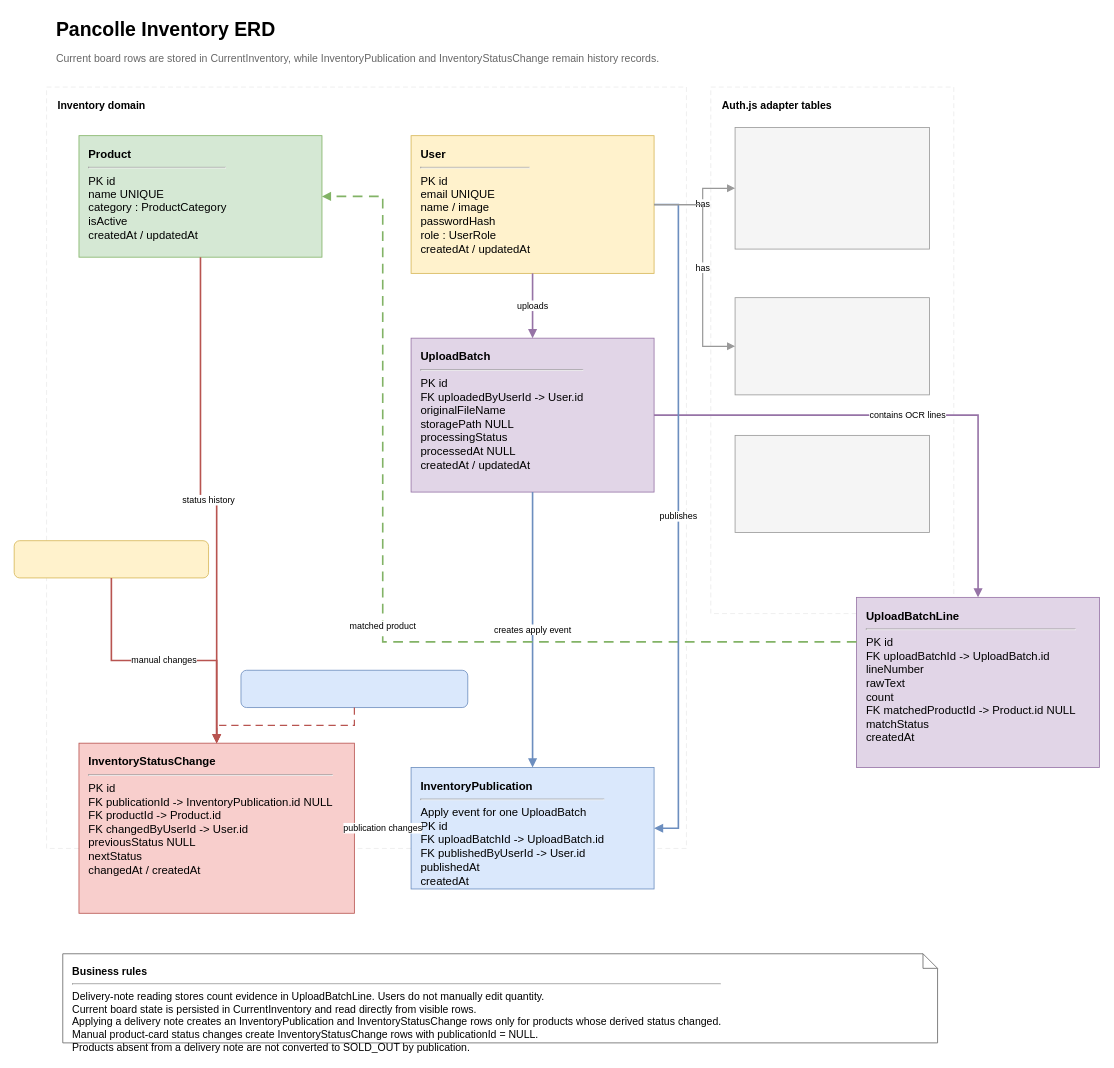
This 1114x1068 diagram has some shape labels left out. The centre of each missing label's shape, as x and y in pixels:
"Account PK id FK userId provider providerAccountId tokens / scope" belongs at pixel 831 188.
"Delivery-note apply writes only changed statuses" belongs at pixel 354 688.
"Manual product-card status update" belongs at pixel 111 559.
"Session PK id sessionToken UNIQUE FK userId expires" belongs at pixel 831 346.
"VerificationToken identifier token UNIQUE expires PK(identifier, token)" belongs at pixel 831 484.
